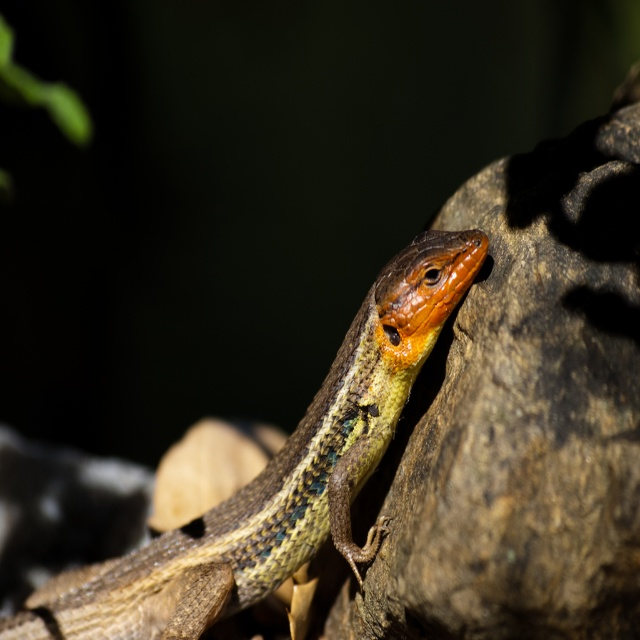Lizard: (0, 224, 493, 639)
